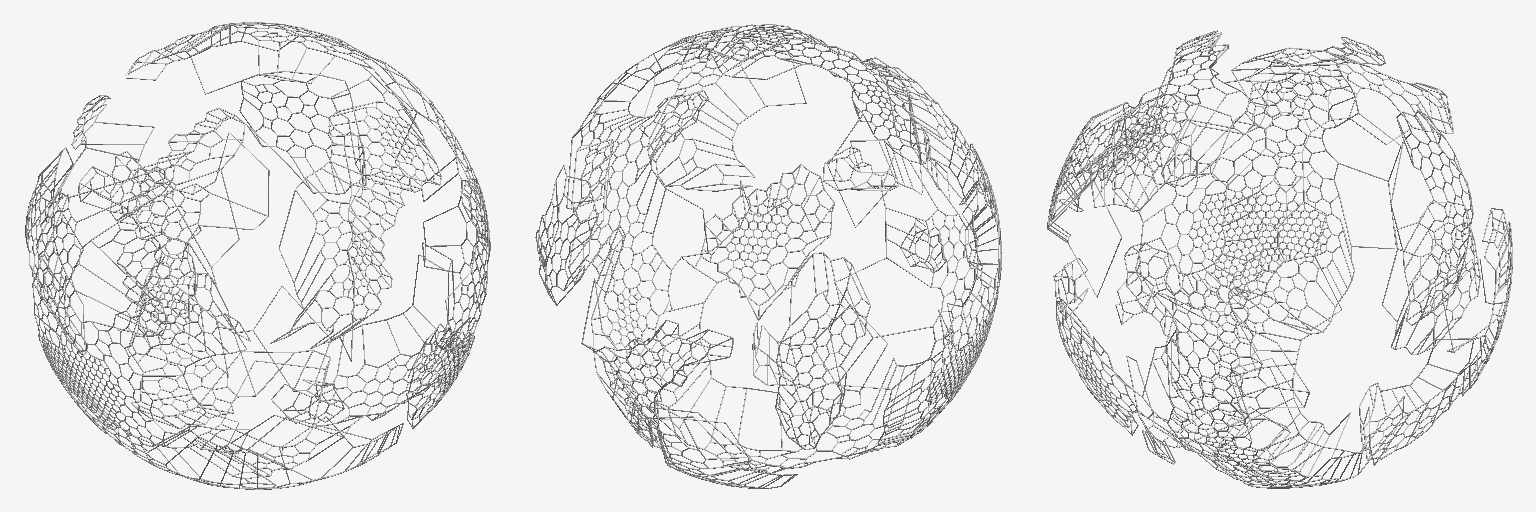
The model's file is web.obj.
3 renders of one model, left to right at view 1: azimuth 30°, elevation 25°; view 2: azimuth 150°, elevation 25°; view 3: azimuth 270°, elevation 25°, orthographic.
Visible parts, largest first — view 1: Web_Icosphere; view 2: Web_Icosphere; view 3: Web_Icosphere.
Part boxes in pixels (x1,y1,x2,y2): Web_Icosphere: (25, 22, 490, 489); Web_Icosphere: (535, 24, 1001, 488); Web_Icosphere: (1047, 30, 1512, 488).
Bounding box in the file's own units: 13.97 × 14 × 13.97.